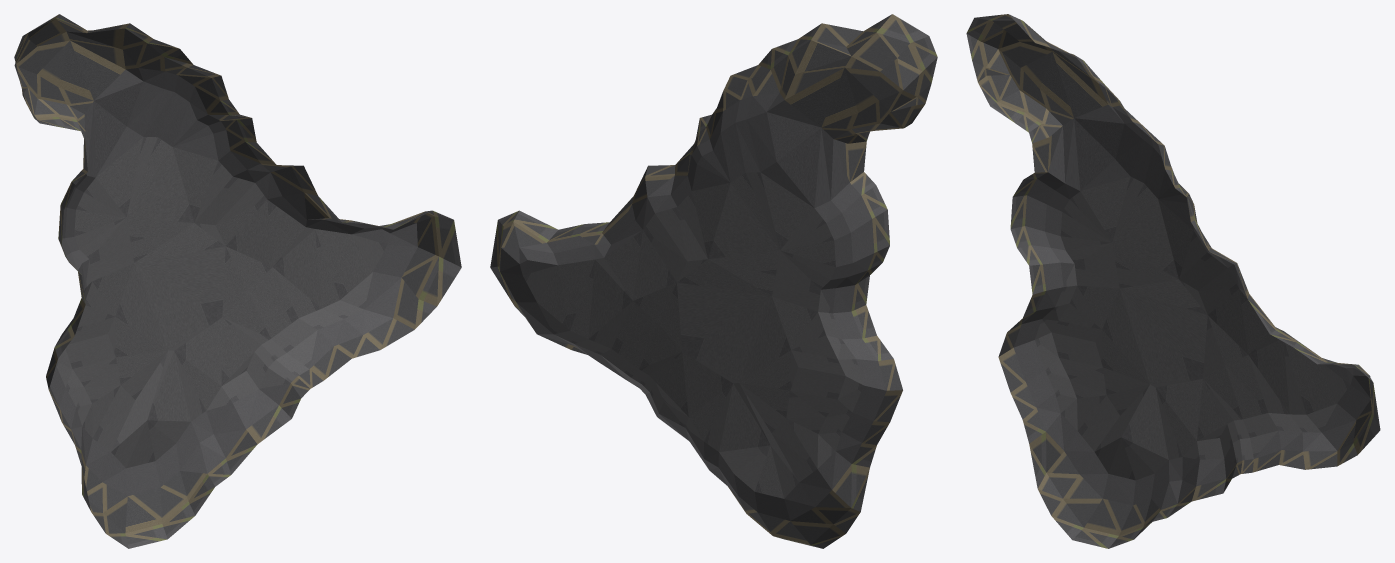
File: island_9_0.fbx
3 views of the same model, side by side, from view 1: azimuth 30°, elevation 25°; view 2: azimuth 150°, elevation 25°; view 3: azimuth 330°, elevation 25° (orthographic). The views are drawn at different scales.
Parts seen in each view (by area): view 1: Circle.021; view 2: Circle.021; view 3: Circle.021.
Part boxes in pixels (box(x1,y1,x2,y2)): Circle.021: box(14, 14, 461, 548); Circle.021: box(490, 14, 937, 548); Circle.021: box(966, 14, 1380, 548).
Bounding box in the file's own units: 7886 × 9292 × 754.
